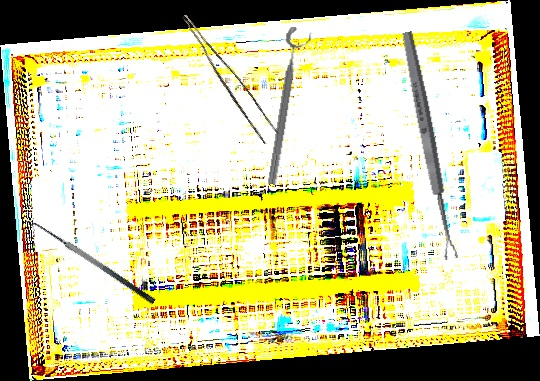Fixation Ring: (262, 25, 315, 188)
Spatula Surgical: (26, 215, 157, 315)
Surgical Spoon: (399, 30, 459, 261)
Tissue Forceps: (168, 14, 283, 145)
